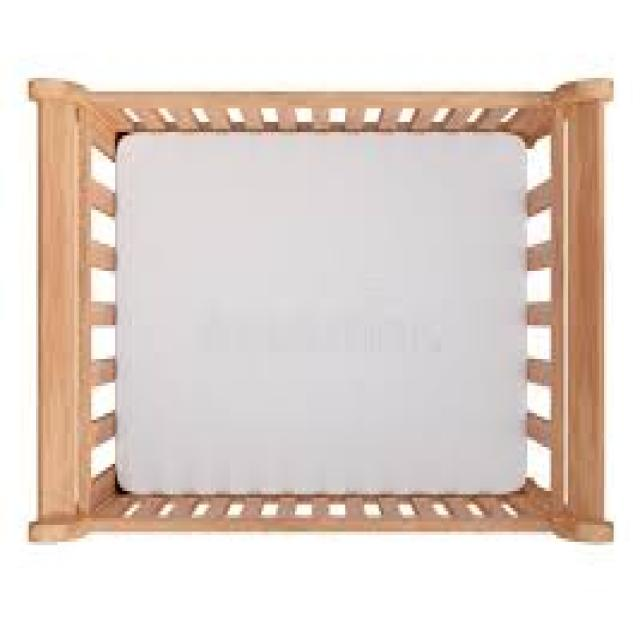crib: (53, 91, 598, 535)
